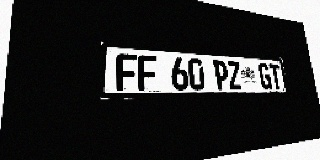0: (187, 58, 205, 90)
6: (170, 57, 189, 90)
F: (116, 53, 138, 91), (137, 55, 158, 91)
G: (258, 63, 272, 90)
P: (213, 60, 230, 90)
T: (269, 64, 283, 89)
Z: (227, 61, 243, 90)
